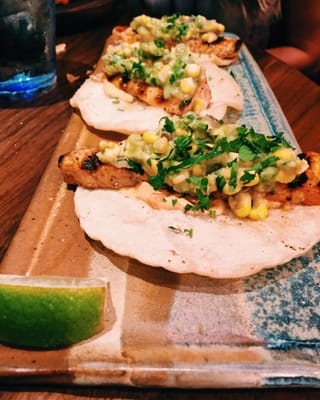pizza: (0, 0, 57, 106)
